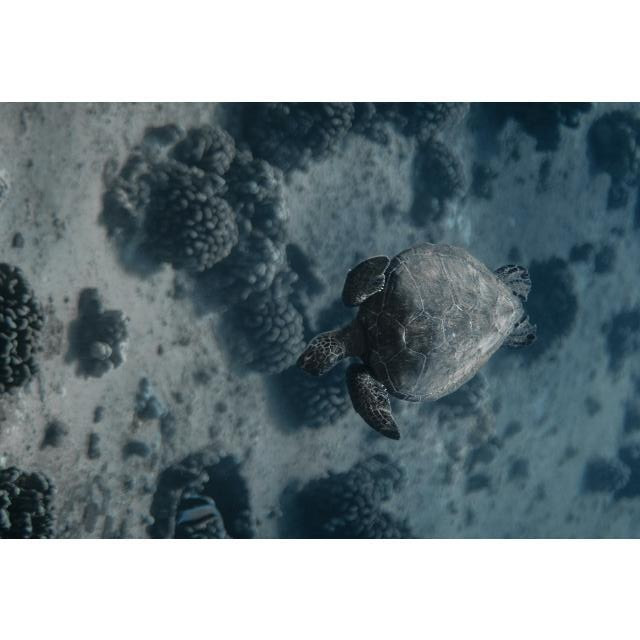turtle: (296, 237, 540, 442)
